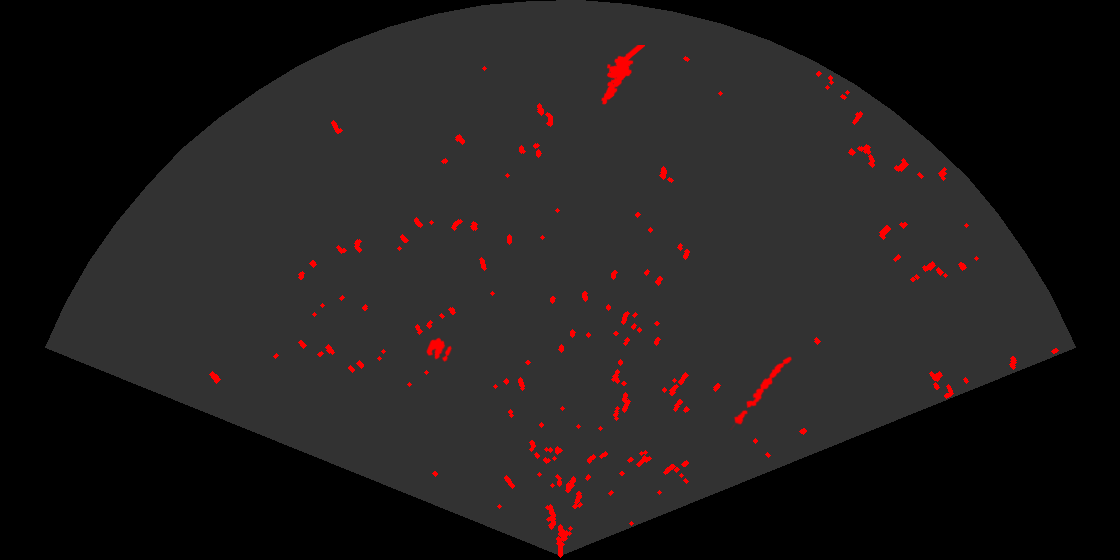ball: (425, 336, 454, 364)
chain: (728, 355, 794, 430)
frogman: (599, 45, 645, 106)
